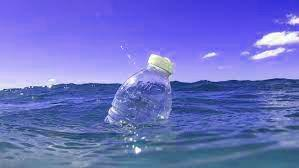Plastic: (93, 44, 189, 159)
